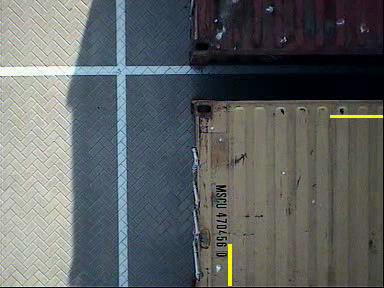groundmarker_2: (139, 70, 195, 102), (139, 248, 195, 280)
